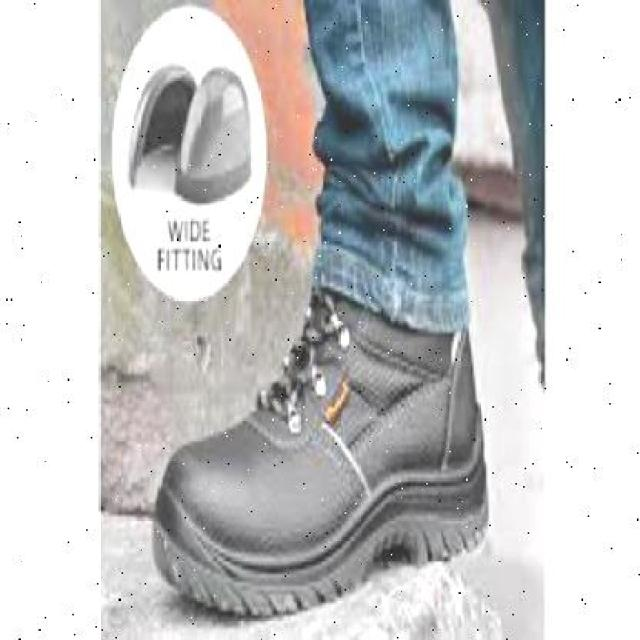shoes: (163, 284, 486, 588)
